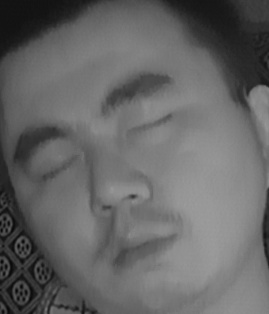blink: (129, 106, 179, 140), (36, 150, 83, 184)
mouth: (100, 215, 182, 275)
